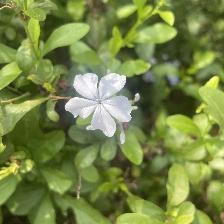chitrak: (60, 64, 142, 136)
